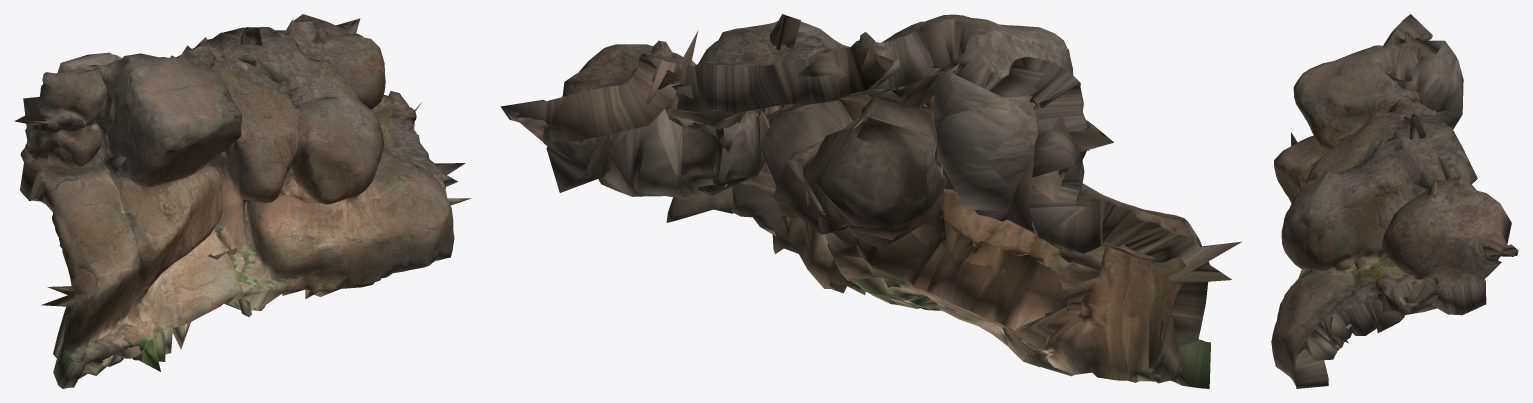
The model's file is nama_cliff_01.glb.
3 renders of one model, left to right at view 1: azimuth 30°, elevation 25°; view 2: azimuth 150°, elevation 25°; view 3: azimuth 270°, elevation 25°, orthographic. The views are drawn at different scales.
Visible parts, largest first — view 1: nama_cliff_01; view 2: nama_cliff_01; view 3: nama_cliff_01.
Boxes of the visible parts, x1,y1,x2,y2 form: nama_cliff_01: (14,14,471,388); nama_cliff_01: (500,14,1241,388); nama_cliff_01: (1271,14,1518,388).
Size of the model in its own units: 14.84 by 8.84 by 7.59.
1 material, 1 textured.
